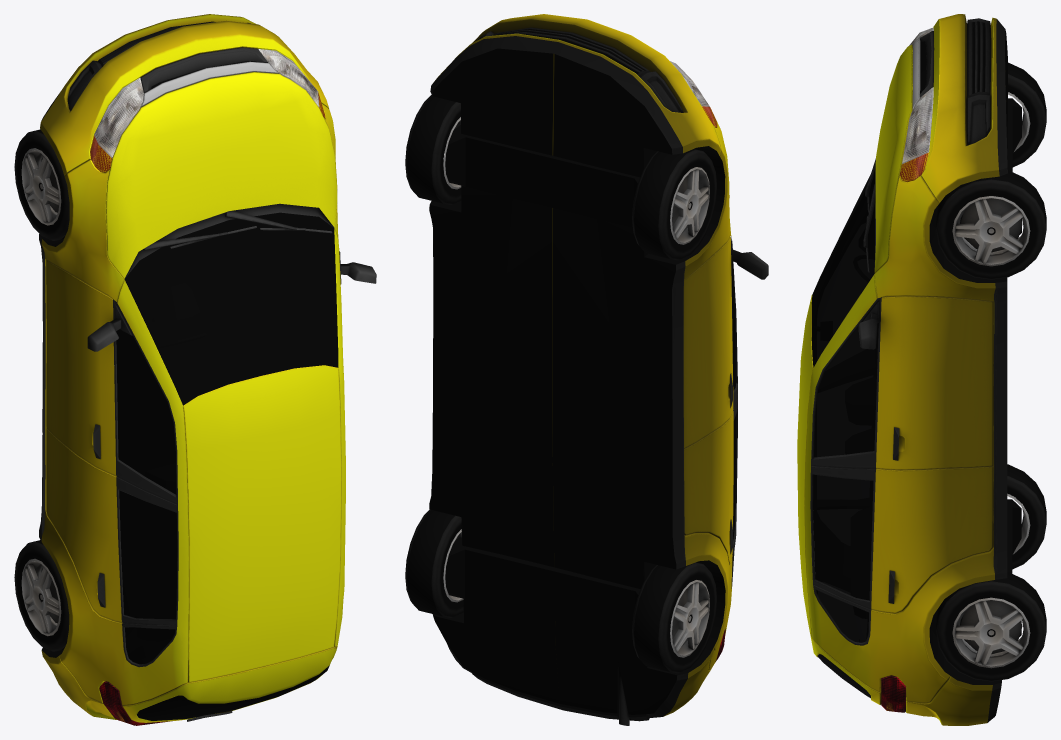
The model's file is MuveX.glb.
3 views of the same model, side by side, from view 1: azimuth 30°, elevation 25°; view 2: azimuth 150°, elevation 25°; view 3: azimuth 270°, elevation 25° (orthographic). The views are drawn at different scales.
Parts seen in each view (by area): view 1: Hatchback Body_Body_0.002, Hatchback Body_Glass_0.002, Wheel_B_Wheek_0.002, Wheel_B001_Wheek_0.002, Hatchback Body_Optics_0.002; view 2: Hatchback Body_Body_0.002, Wheel_B_Wheek_0.002, Wheel_B001_Wheek_0.002, Wheel_B003_Wheek_0.002, Wheel_B002_Wheek_0.002, Hatchback Body_Glass_0.002; view 3: Hatchback Body_Body_0.002, Hatchback Body_Glass_0.002, Wheel_B002_Wheek_0.002, Wheel_B003_Wheek_0.002, Hatchback Body_Optics_0.002, Wheel_B001_Wheek_0.002, Wheel_B_Wheek_0.002.
Part boxes in pixels (x1,y1,x2,y2): Hatchback Body_Body_0.002: (39,14,376,722); Hatchback Body_Glass_0.002: (116,212,338,720); Wheel_B_Wheek_0.002: (14,129,69,240); Wheel_B001_Wheek_0.002: (14,540,69,651); Hatchback Body_Optics_0.002: (90,49,325,725); Hatchback Body_Body_0.002: (429,14,768,725); Wheel_B_Wheek_0.002: (632,149,716,260); Wheel_B001_Wheek_0.002: (632,562,716,673); Wheel_B003_Wheek_0.002: (405,509,463,617); Wheel_B002_Wheek_0.002: (405,94,461,204); Hatchback Body_Glass_0.002: (731,261,736,572); Hatchback Body_Body_0.002: (797,14,1021,725); Hatchback Body_Glass_0.002: (811,171,878,698); Wheel_B002_Wheek_0.002: (936,170,1046,279); Wheel_B003_Wheek_0.002: (936,572,1046,681); Hatchback Body_Optics_0.002: (881,28,933,712); Wheel_B001_Wheek_0.002: (1007,464,1046,569); Wheel_B_Wheek_0.002: (1008,62,1046,167).
Bounding box in the file's own units: 0.4179 × 0.9494 × 0.3245.
Materials: 4 (3 with a texture image).
